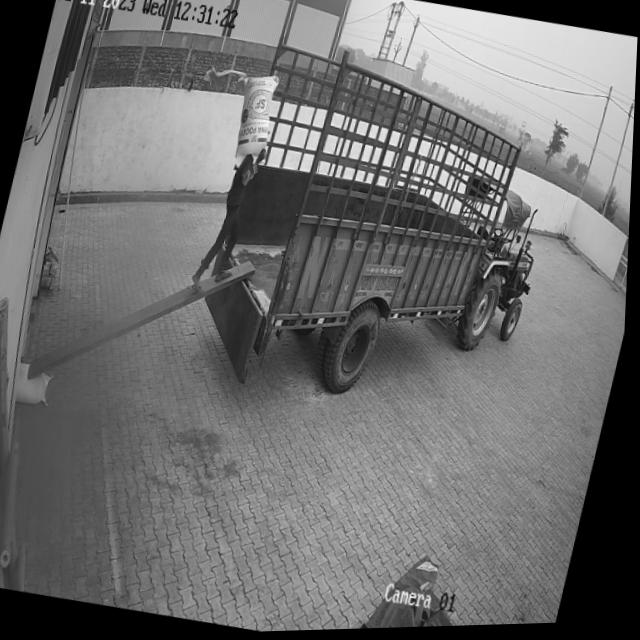sack: (228, 74, 282, 173), (15, 362, 58, 408)
